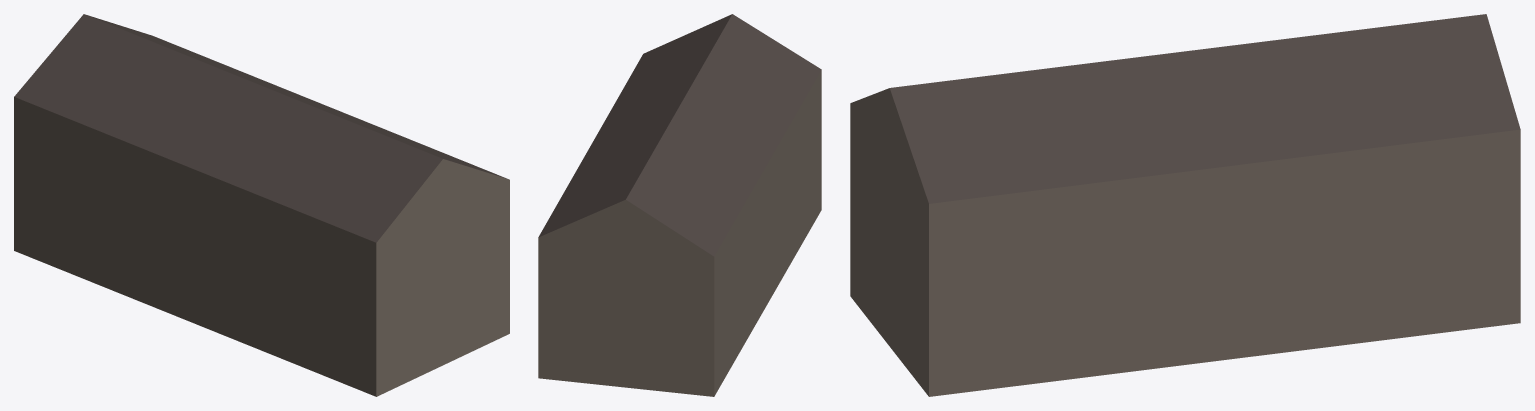
The picture shows the model from 3 angles, left to right: view 1: azimuth 30°, elevation 25°; view 2: azimuth 150°, elevation 25°; view 3: azimuth 270°, elevation 25°; orthographic projection. The views are drawn at different scales.
Visible parts, largest first — view 1: HP-w1197253895; view 2: HP-w1197253895; view 3: HP-w1197253895.
Part boxes in pixels (x1=…): HP-w1197253895: x1=14, y1=14, x2=509, y2=396; HP-w1197253895: x1=538, y1=14, x2=821, y2=396; HP-w1197253895: x1=850, y1=14, x2=1520, y2=396.
Size of the model in its own units: 17.53 by 12.06 by 28.33.
